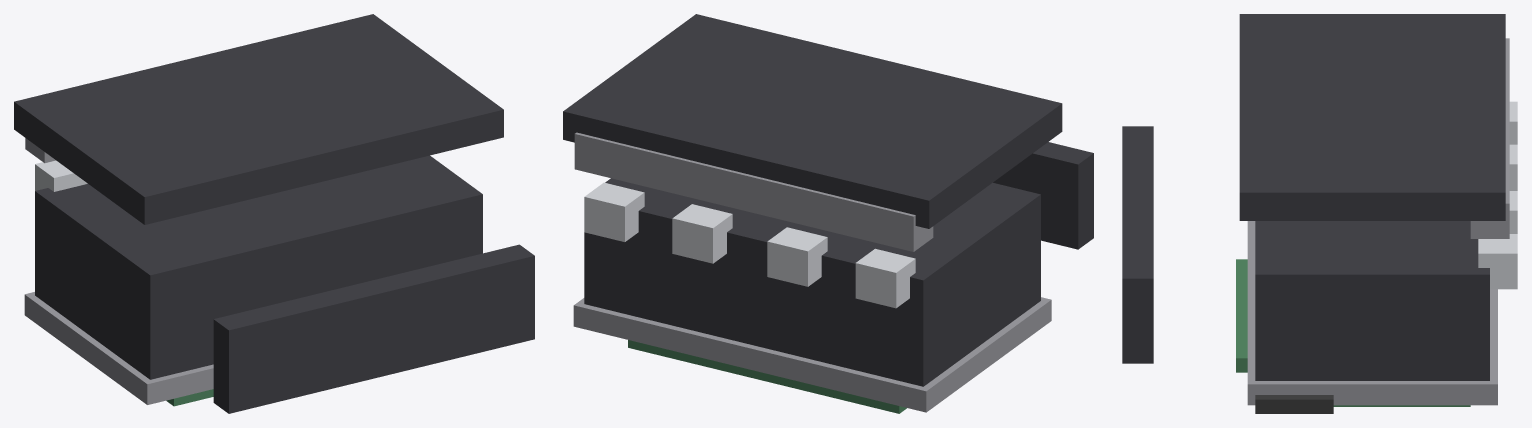
The model's file is memory_card_slot.gltf.
The picture shows the model from 3 angles, left to right: view 1: azimuth 30°, elevation 25°; view 2: azimuth 150°, elevation 25°; view 3: azimuth 270°, elevation 25°; orthographic projection.
Visible parts, largest first — view 1: memory_card_slot; view 2: memory_card_slot; view 3: memory_card_slot.
Boxes of the visible parts, x1,y1,x2,y2 form: memory_card_slot: [14, 14, 534, 413]; memory_card_slot: [563, 14, 1093, 413]; memory_card_slot: [1122, 14, 1517, 413].
Bounding box in the file's own units: 0.0545 × 0.0335 × 0.0505.
